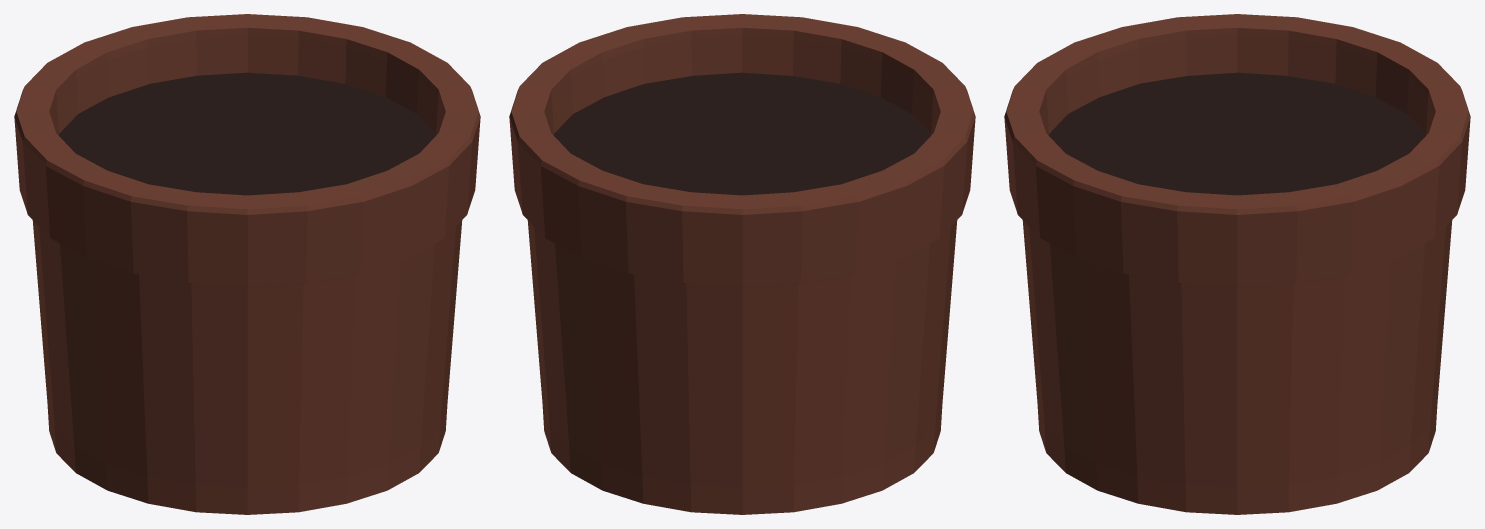
Rendered from MBJ_PlantPack01_Pot01_LOD3_v001.fbx.
3 renders of one model, left to right at view 1: azimuth 30°, elevation 25°; view 2: azimuth 150°, elevation 25°; view 3: azimuth 270°, elevation 25°, orthographic.
Parts seen in each view (by area): view 1: PlantPot01_C.001; view 2: PlantPot01_C.001; view 3: PlantPot01_C.001.
Part boxes in pixels (x1,y1,x2,y2): PlantPot01_C.001: (14, 14, 480, 514); PlantPot01_C.001: (509, 14, 975, 514); PlantPot01_C.001: (1004, 14, 1470, 514).
Size of the model in its own units: 61.21 by 46.36 by 61.21.
